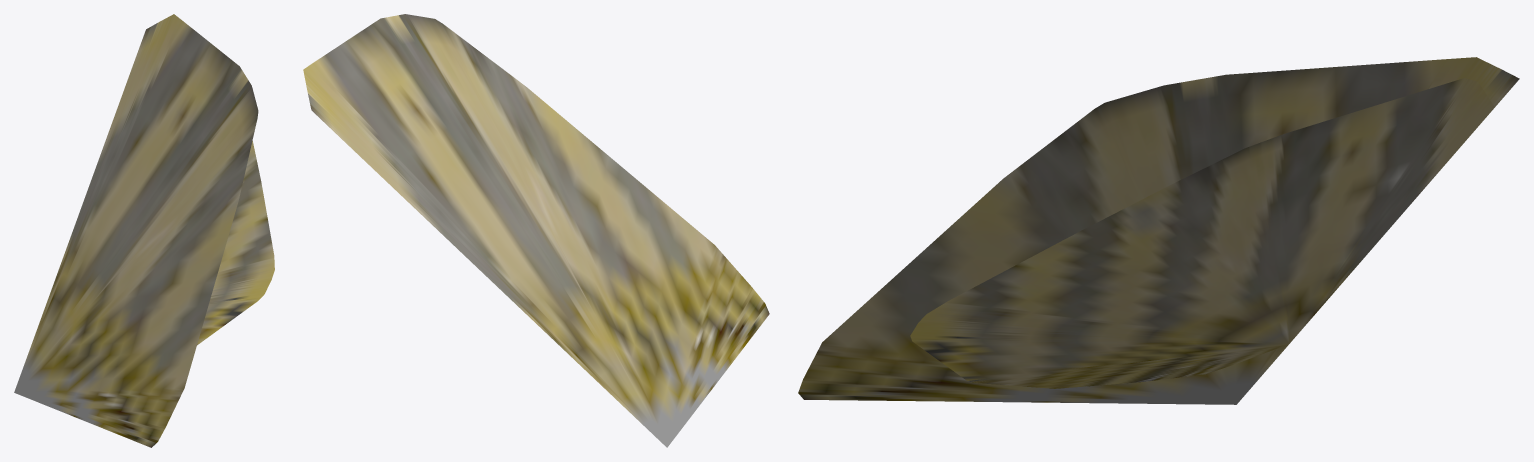
The model's file is guard-left.glb.
The picture shows the model from 3 angles, left to right: view 1: azimuth 30°, elevation 25°; view 2: azimuth 150°, elevation 25°; view 3: azimuth 270°, elevation 25°; orthographic projection. The views are drawn at different scales.
Parts seen in each view (by area): view 1: left-panel-2, left-panel-1; view 2: left-panel-2; view 3: left-panel-1, left-panel-2.
Boxes of the visible parts, x1,y1,x2,y2 form: left-panel-2: (14, 14, 258, 447); left-panel-1: (197, 141, 274, 345); left-panel-2: (303, 14, 769, 447); left-panel-1: (910, 78, 1494, 388); left-panel-2: (798, 57, 1519, 404).
Bounding box in the file's own units: 0.7941 × 0.9285 × 1.08.
